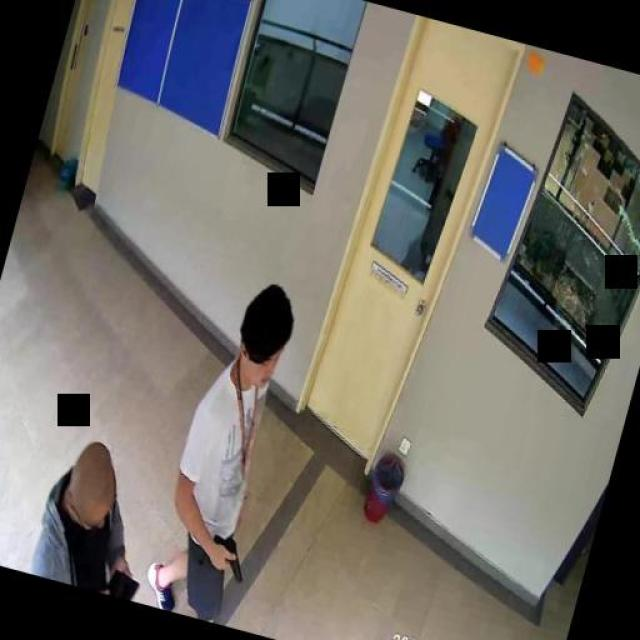gun: (204, 529, 250, 581)
